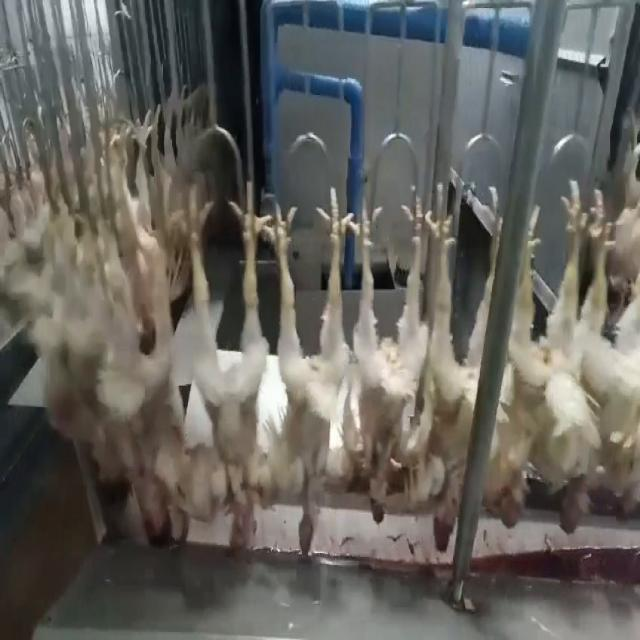chicken: (335, 189, 431, 525), (173, 177, 257, 553), (424, 180, 506, 558), (260, 189, 342, 559), (527, 177, 604, 538), (102, 183, 171, 550), (603, 182, 639, 517)
